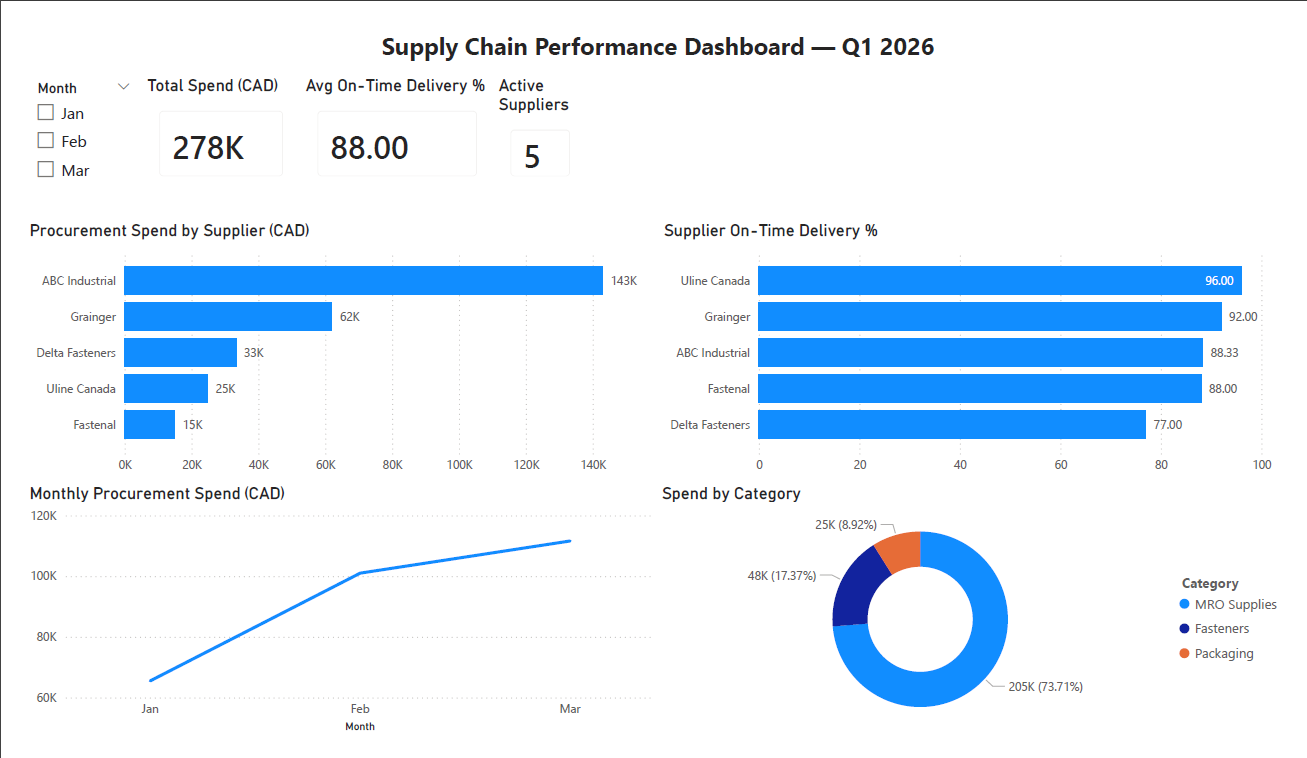

This screenshot's page, from the dashboard's own definition file:
{"tool":"powerbi","page":{"name":"Page 1","canvas":[1280,720],"ordinal":0},"visuals":[{"type":"clusteredBarChart","title":"Procurement Spend by Supplier (CAD)","fields":{"Category":["Sheet1.Supplier Name       "],"Y":["Sum(Sheet1. PO Value (CAD) )"]},"box":[0,197.8,639.4,265],"z":0},{"type":"clusteredBarChart","title":"Supplier On-Time Delivery %","fields":{"Category":["Sheet1.Supplier Name       "],"Y":["Avg(Sheet1. On-Time Delivery % )"]},"box":[640.6,197.8,639.4,265],"z":1000},{"type":"lineChart","title":"Monthly Procurement Spend (CAD)","fields":{"Y":["Sum(Sheet1. PO Value (CAD) )"],"Category":["Sheet1. Month"]},"box":[0,462.8,640.6,257.5],"z":2000},{"type":"donutChart","title":"Spend by Category","fields":{"Category":["Sheet1. Category        "],"Y":["Sum(Sheet1. PO Value (CAD) )"]},"box":[639.4,462.8,640.6,257.5],"z":3000},{"type":"slicer","fields":{"Values":["Sheet1. Month"]},"box":[0,51,119.4,119.4],"z":4000},{"type":"cardVisual","title":" Total Spend (CAD)","fields":{"Data":["Sum(Sheet1. PO Value (CAD) )"]},"box":[119.4,51,159.2,119.4],"z":4001},{"type":"cardVisual","title":"Avg On-Time Delivery %","fields":{"Data":["Avg(Sheet1. On-Time Delivery % )"]},"box":[278.6,51,195.3,119.4],"z":4002},{"type":"cardVisual","title":"Active Suppliers","fields":{"Data":["Count(Sheet1.Supplier Name       )"]},"box":[473.9,51,94.5,119.4],"z":4003},{"type":"textbox","box":[0,0,1280,51],"z":4004}]}

Visuals, with their boxes on the page's 1280x720 design canvas (x1, y1, x2, y2). These are canvas units, not pixel positions in the 1307x758 screenshot, which may show the page scaled, cropped or inside an application window:
"Procurement Spend by Supplier (CAD)" clusteredBarChart: {"left": 0, "top": 198, "right": 639, "bottom": 463}
"Supplier On-Time Delivery %" clusteredBarChart: {"left": 641, "top": 198, "right": 1280, "bottom": 463}
"Monthly Procurement Spend (CAD)" lineChart: {"left": 0, "top": 463, "right": 641, "bottom": 720}
"Spend by Category" donutChart: {"left": 639, "top": 463, "right": 1280, "bottom": 720}
slicer - Sheet1. Month: {"left": 0, "top": 51, "right": 119, "bottom": 170}
" Total Spend (CAD)" cardVisual: {"left": 119, "top": 51, "right": 279, "bottom": 170}
"Avg On-Time Delivery %" cardVisual: {"left": 279, "top": 51, "right": 474, "bottom": 170}
"Active Suppliers" cardVisual: {"left": 474, "top": 51, "right": 568, "bottom": 170}
textbox: {"left": 0, "top": 0, "right": 1280, "bottom": 51}
